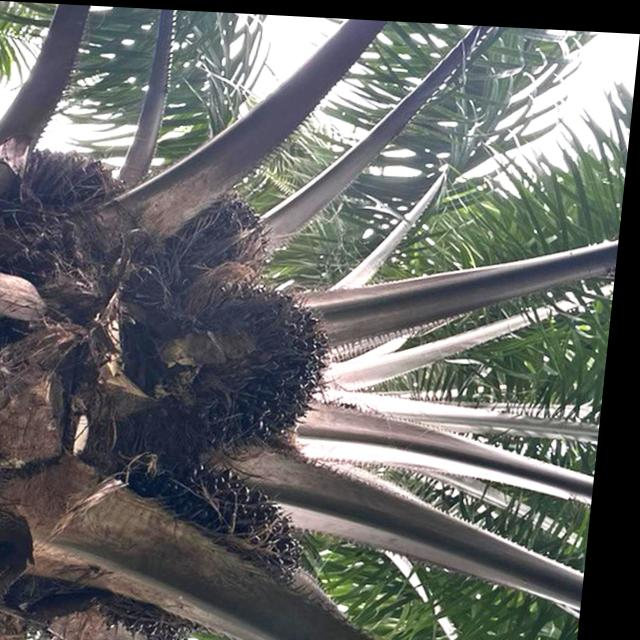unripe: (186, 266, 350, 462)
